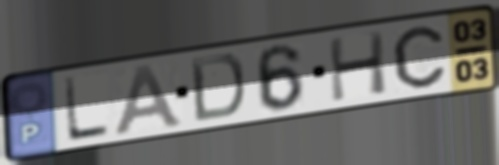6: (253, 41, 308, 115)
A: (112, 62, 187, 138)
C: (389, 23, 448, 91)
D: (187, 52, 248, 125)
H: (325, 28, 390, 105)
L: (61, 74, 113, 144)
